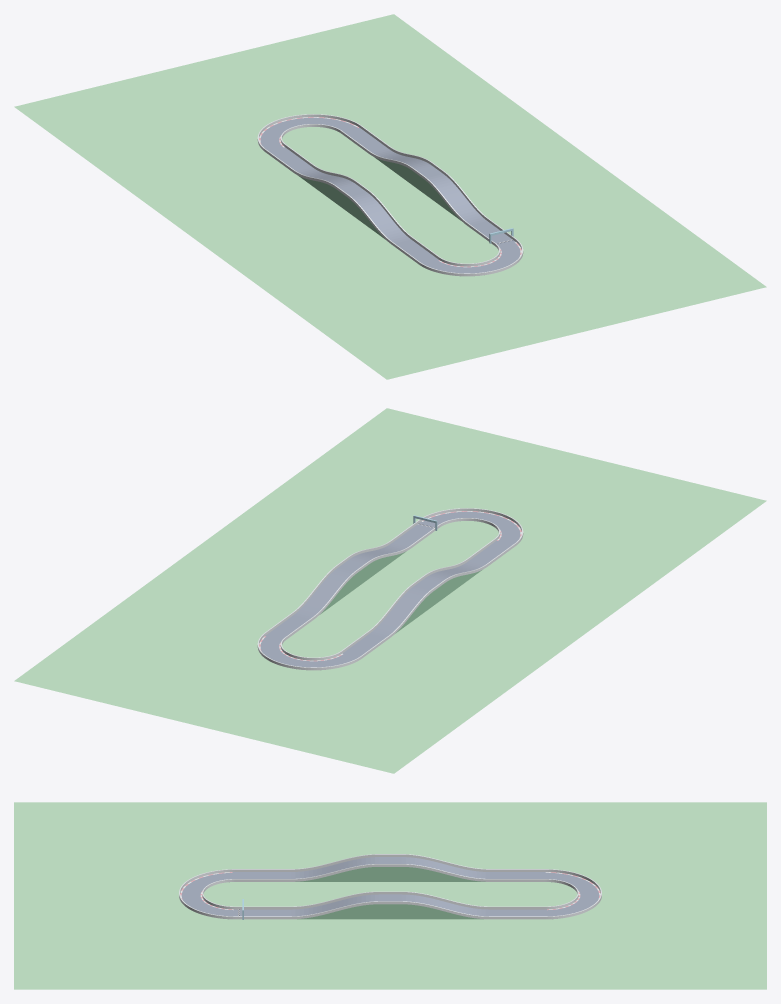
File: track_02_hill.glb
3 renders of one model, top to bottom at view 1: azimuth 30°, elevation 25°; view 2: azimuth 150°, elevation 25°; view 3: azimuth 270°, elevation 25°, orthographic.
Visible parts, largest first — view 1: Grass, Road, Walls; view 2: Grass, Road, Walls; view 3: Grass, Road, Walls, Kerbs.
Part boxes in pixels (left/top/right/bottom): Grass: left=14, top=14, right=766, bottom=379; Road: left=260, top=117, right=520, bottom=273; Walls: left=257, top=114, right=523, bottom=276; Grass: left=14, top=408, right=766, bottom=773; Road: left=260, top=511, right=520, bottom=667; Walls: left=257, top=508, right=523, bottom=670; Grass: left=14, top=802, right=766, bottom=989; Road: left=181, top=857, right=599, bottom=919; Walls: left=179, top=854, right=601, bottom=919; Kerbs: left=180, top=872, right=600, bottom=910.
Bounding box in the file's own units: 800 × 36 × 1360.
